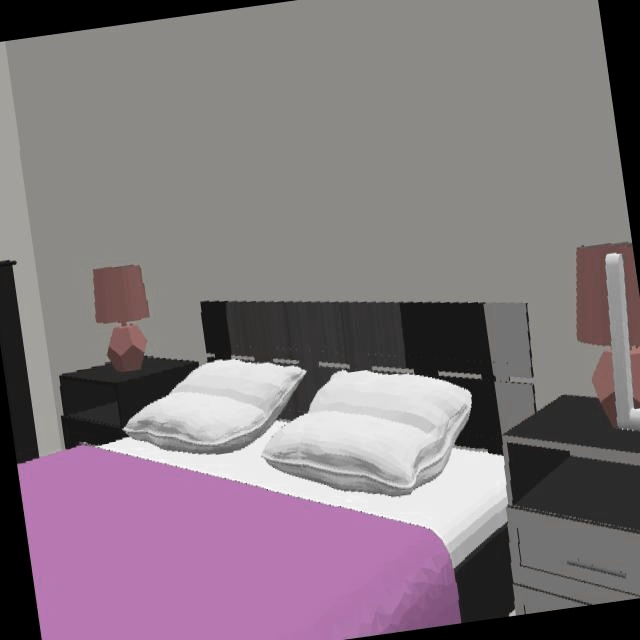bed: (17, 436, 515, 640)
lamp: (576, 243, 640, 416), (93, 265, 151, 372)
nighttable: (504, 397, 640, 615), (60, 358, 199, 446)
pillow: (262, 370, 473, 498), (123, 359, 307, 457)
